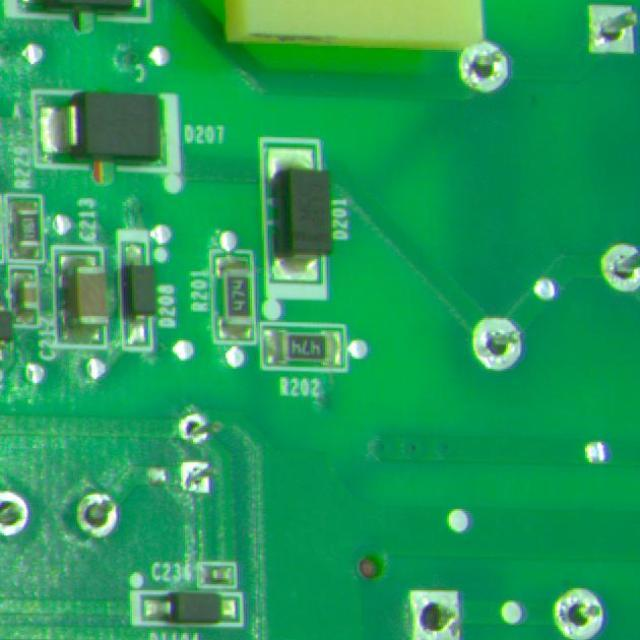oppostie_direction: (473, 318, 523, 371), (459, 41, 510, 92), (555, 589, 605, 640), (410, 591, 461, 640), (589, 5, 638, 54), (601, 244, 640, 291), (78, 494, 118, 537), (0, 491, 29, 536), (179, 412, 210, 444), (181, 461, 211, 493)
